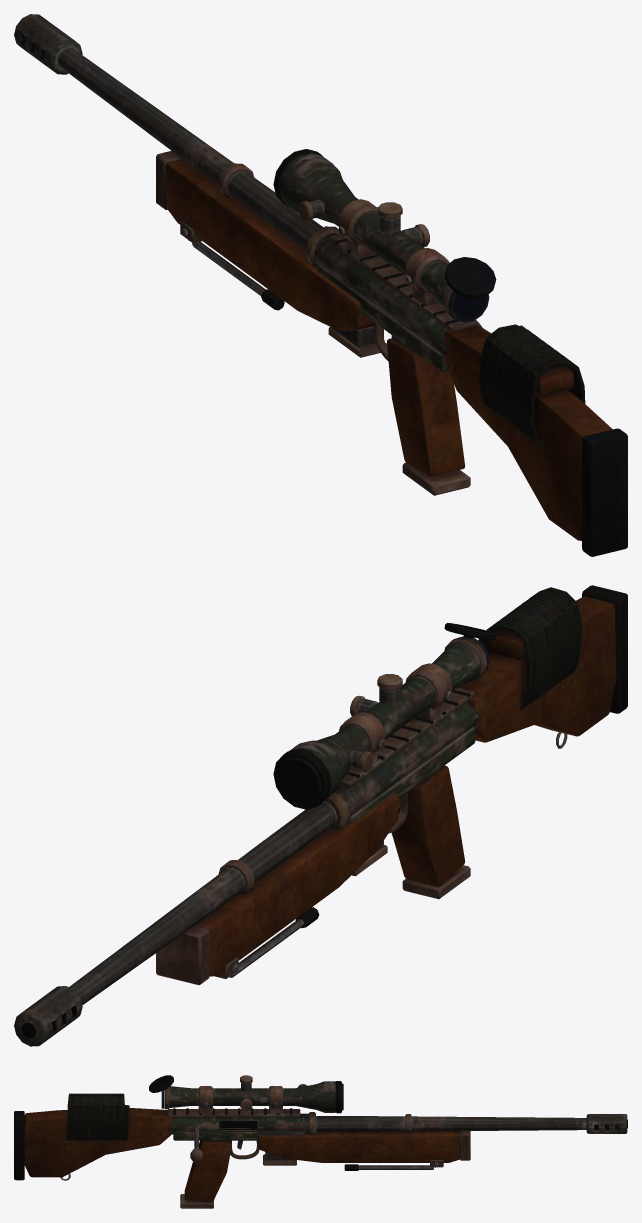
The model's file is zhuravl.glb.
The picture shows the model from 3 angles, top to bottom: view 1: azimuth 30°, elevation 25°; view 2: azimuth 150°, elevation 25°; view 3: azimuth 270°, elevation 25°; orthographic projection. The views are drawn at different scales.
Parts seen in each view (by area): view 1: zhuravl; view 2: zhuravl; view 3: zhuravl.
Boxes of the visible parts, box(x1,y1,x2,y2) form: zhuravl: box(14, 14, 627, 556); zhuravl: box(14, 585, 627, 1046); zhuravl: box(14, 1075, 627, 1208).
Bounding box in the file's own units: 0.1064 × 0.2586 × 1.14.
Materials: 1 (1 with a texture image).
